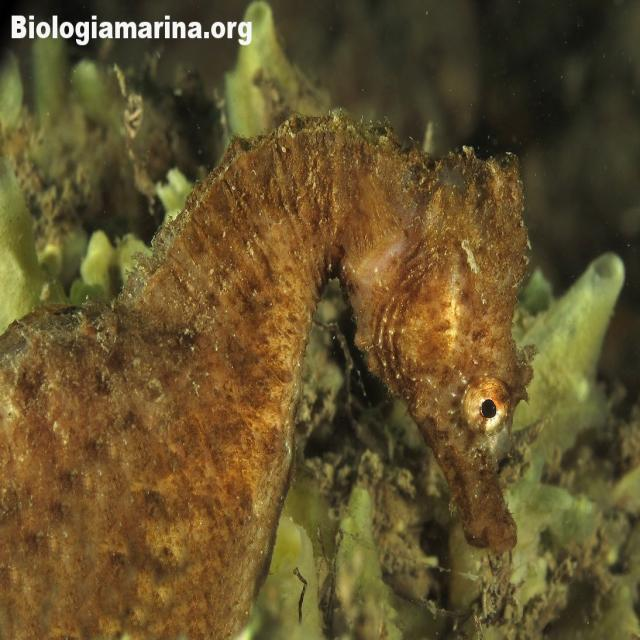Hippo: (361, 133, 537, 556)
